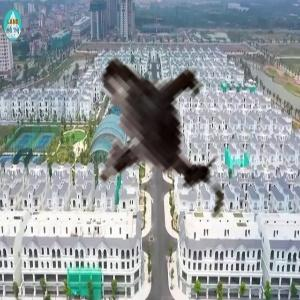drone: (18, 11, 262, 255)
